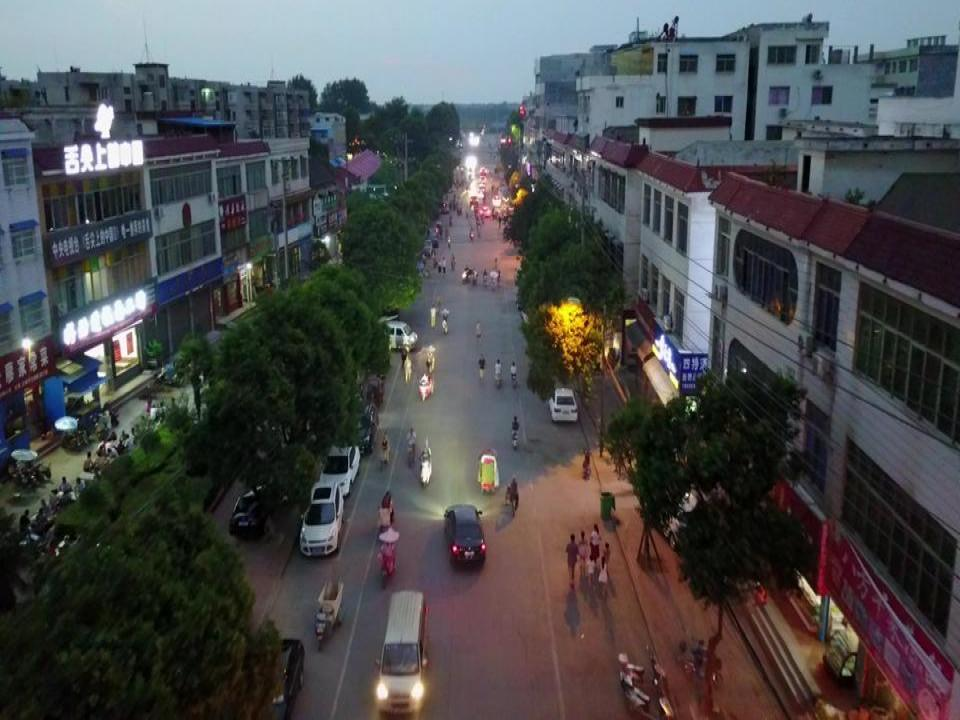car: (240, 638, 304, 720), (298, 482, 343, 558), (228, 483, 279, 538), (443, 503, 487, 565), (317, 439, 360, 497), (343, 401, 380, 456), (548, 386, 578, 422), (514, 266, 528, 286), (427, 232, 439, 248)
van: (375, 589, 426, 715), (379, 321, 419, 352)
